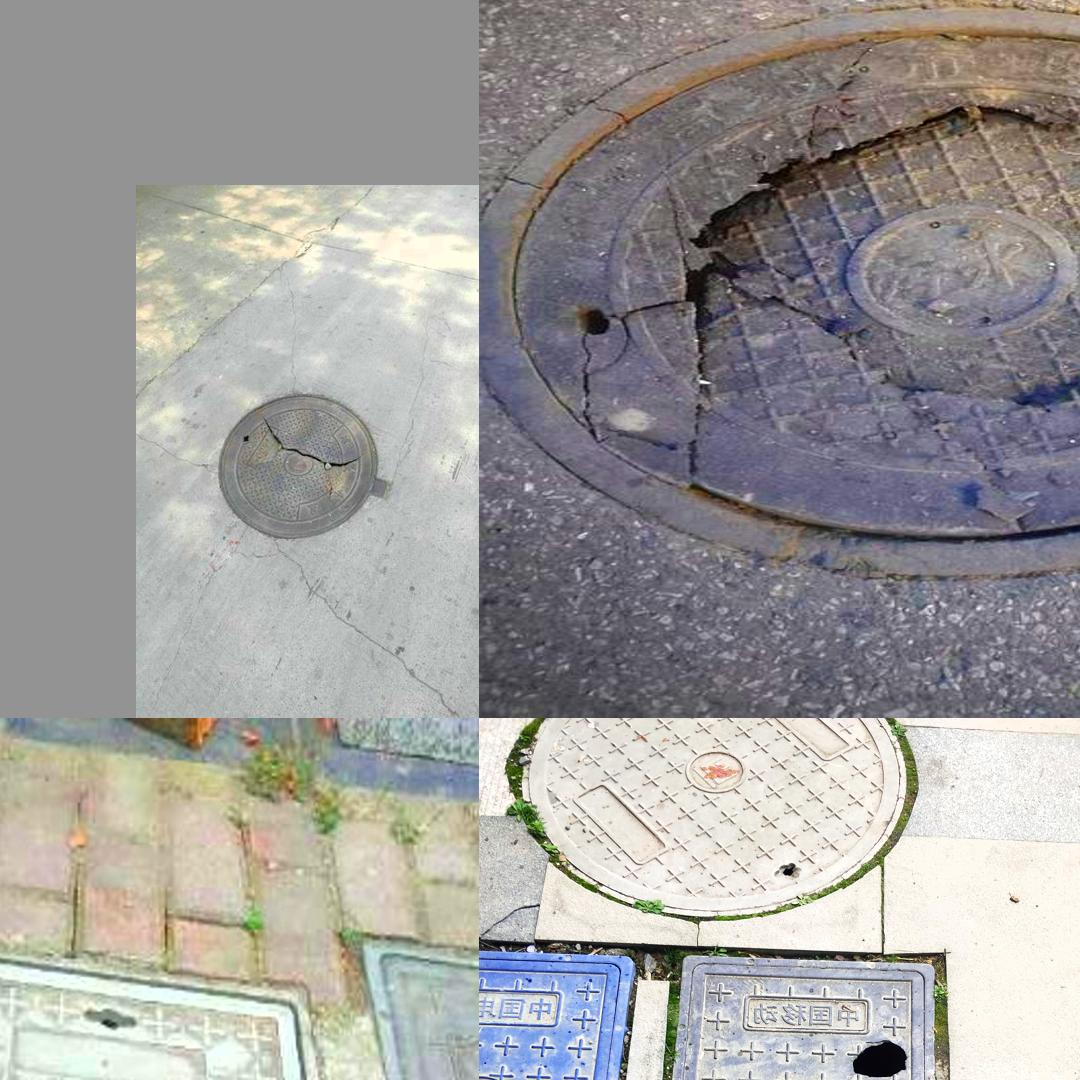broke: (503, 0, 1080, 577), (518, 717, 907, 916), (0, 932, 417, 1080), (647, 950, 941, 1080), (215, 385, 391, 545), (479, 950, 637, 1080)
